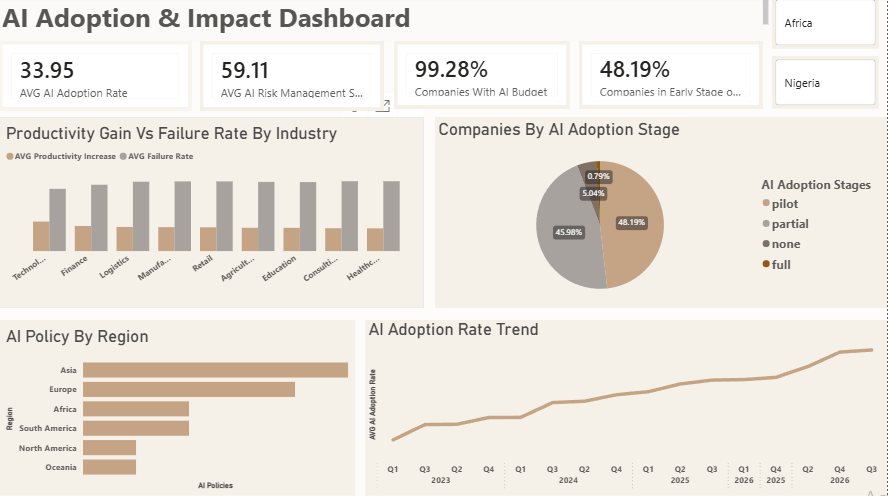

This screenshot's page, from the dashboard's own definition file:
{"tool":"powerbi","page":{"name":"Page 1","canvas":[1280,720],"ordinal":0},"visuals":[{"type":"clusteredColumnChart","title":"Productivity Gain Vs Failure Rate By Industry","fields":{"Category":["ai_industry_summary.industry"],"Y":["Avg(ai_industry_summary.avg_productivity_change_percent)","Avg(ai_industry_summary.avg_ai_failure_rate)"]},"box":[0,174.2,612,275],"z":0},{"type":"lineChart","title":"AI Adoption Rate Trend","fields":{"Category":["ai_company_adoption.survey_year","ai_company_adoption.quarter"],"Y":["Avg(ai_company_adoption.ai_adoption_rate)"]},"box":[527,466.6,753.1,253.4],"z":1000},{"type":"donutChart","title":"Companies By AI Adoption Stage","fields":{"Category":["ai_company_adoption.ai_adoption_stage"],"Y":["CountNonNull(ai_company_adoption.company_id)"]},"box":[627.8,174.2,652.3,275],"z":2000},{"type":"clusteredBarChart","title":"AI Policy By Region","fields":{"Category":["country_ai_index.region"],"Y":["CountNonNull(country_ai_index.country_ai_policy)"]},"box":[0,466.6,512.6,253.4],"z":3000},{"type":"cardVisual","fields":{"Data":["DAX Measures.Avg Ai adoption rate"]},"box":[0,64.8,338.4,100.8],"z":4000},{"type":"cardVisual","fields":{"Data":["DAX Measures.% of Companies with AI budget"]},"box":[354.2,64.8,361.4,97.9],"z":5000},{"type":"advancedSlicerVisual","fields":{"Values":["country_ai_index.country"]},"box":[1113.1,86.4,154.1,76.3],"z":6000},{"type":"advancedSlicerVisual","fields":{"Values":["country_ai_index.region"]},"box":[1113.1,0,154.1,76.3],"z":7000},{"type":"textbox","box":[0,0,1113.1,64.8],"z":8000},{"type":"cardVisual","fields":{"Data":["DAX Measures.% of Companies in Early Stage of Ai Adoption"]},"box":[734.4,64.8,367.2,97.9],"z":9000}]}

Visuals, with their boxes in screenshot pixels (x1, y1, x2, y2), scaled from the page's 1280x720 canvas onto the 888x496 screenshot:
"Productivity Gain Vs Failure Rate By Industry" clusteredColumnChart: select_region(0, 120, 425, 309)
"AI Adoption Rate Trend" lineChart: select_region(366, 321, 887, 495)
"Companies By AI Adoption Stage" donutChart: select_region(436, 120, 887, 309)
"AI Policy By Region" clusteredBarChart: select_region(0, 321, 356, 495)
cardVisual - DAX Measures.Avg Ai adoption rate: select_region(0, 45, 235, 114)
cardVisual - DAX Measures.% of Companies with AI budget: select_region(246, 45, 496, 112)
advancedSlicerVisual - country_ai_index.country: select_region(772, 60, 879, 112)
advancedSlicerVisual - country_ai_index.region: select_region(772, 0, 879, 53)
textbox: select_region(0, 0, 772, 45)
cardVisual - DAX Measures.% of Companies in Early Stage of Ai Adoption: select_region(509, 45, 764, 112)
